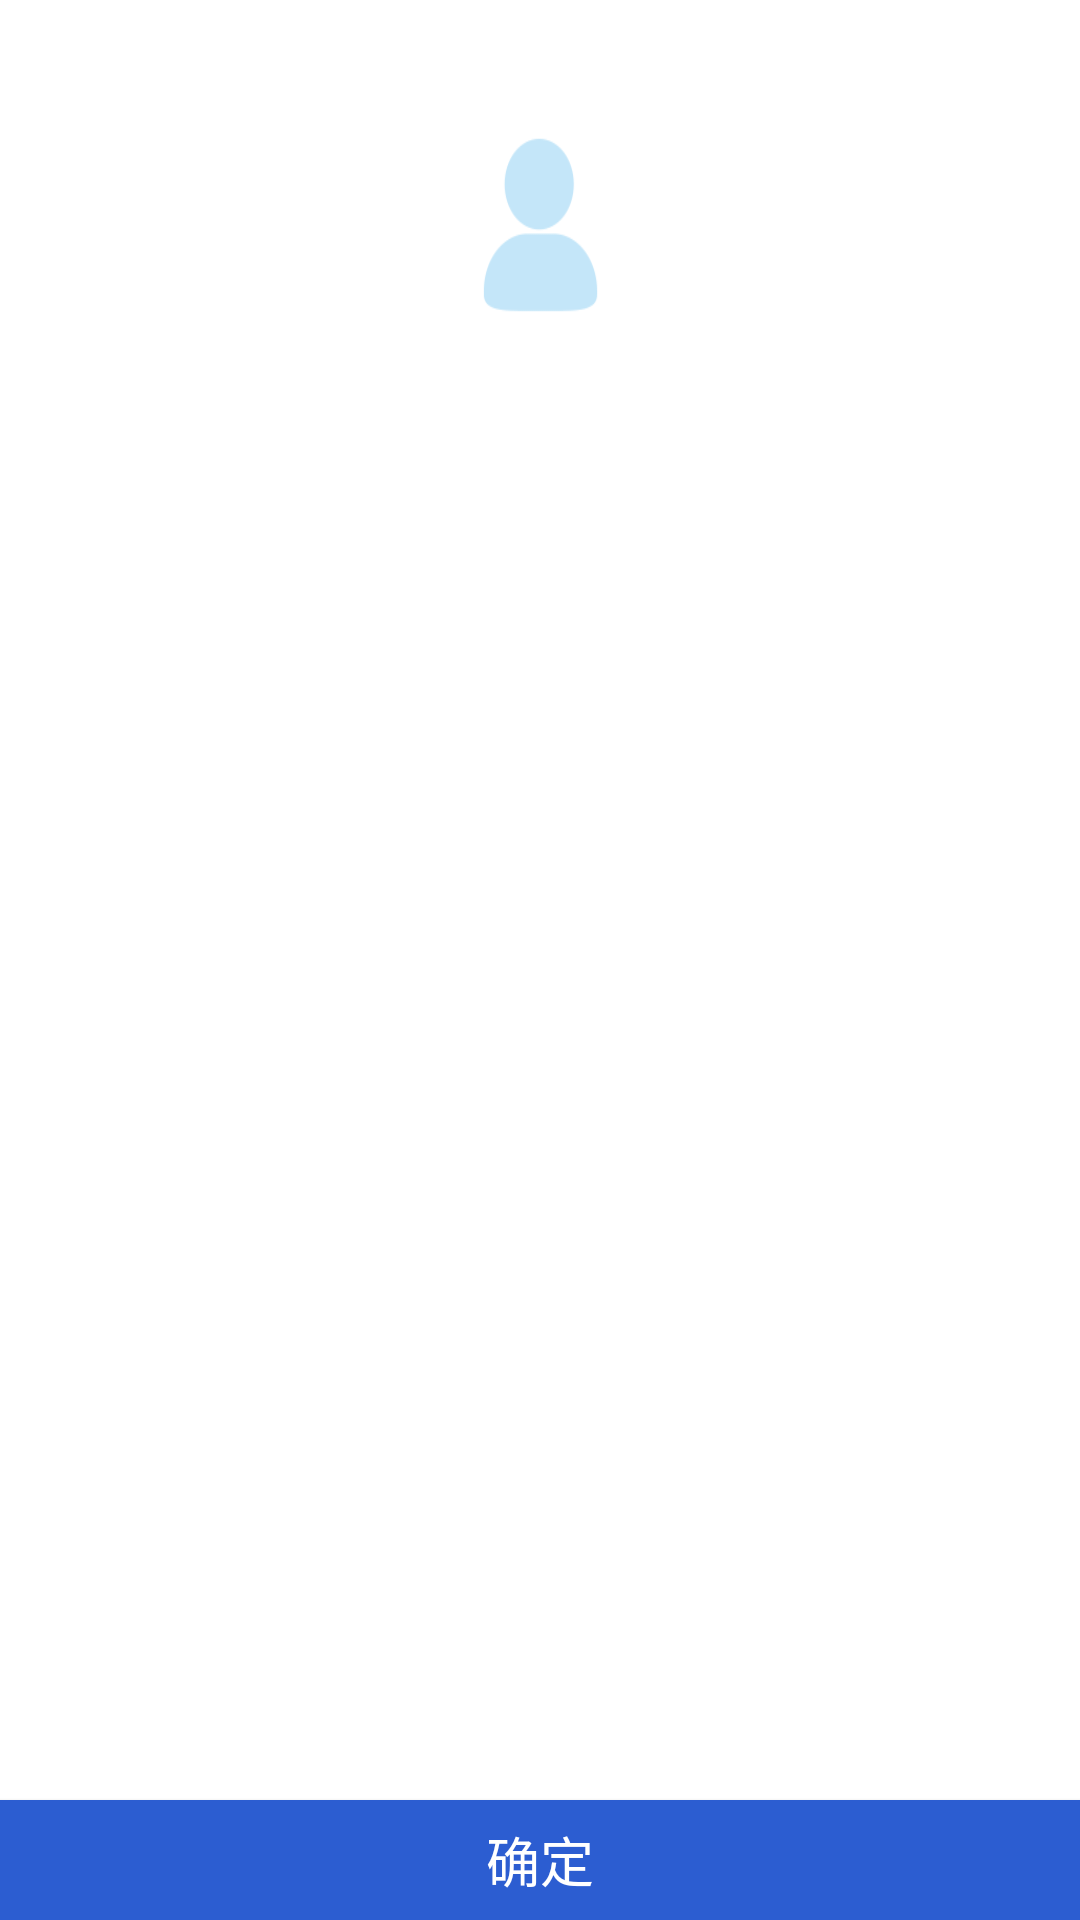

Screen size 1080 × 1920. Icon name, then its center in pixels as point (x, y):
head: point (540, 225)
